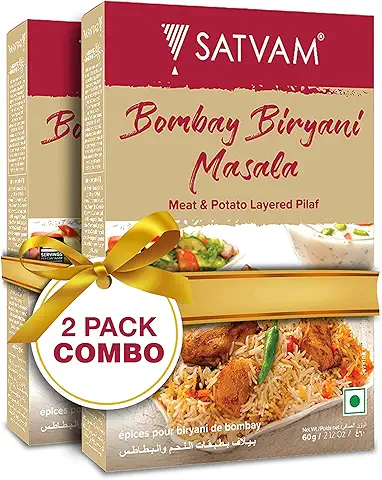Biryani: (106, 2, 382, 475)
